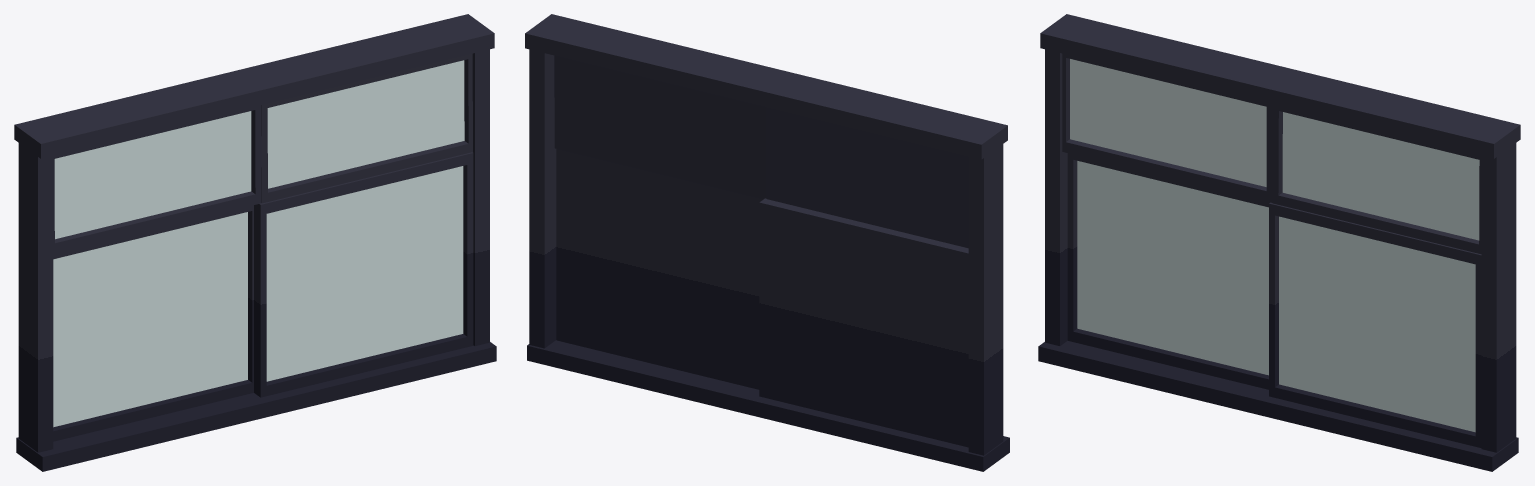
The model's file is ventana_iterac.fbx.
3 renders of one model, left to right at view 1: azimuth 30°, elevation 25°; view 2: azimuth 150°, elevation 25°; view 3: azimuth 330°, elevation 25°, orthographic.
Visible parts, largest first — view 1: ventana_iterac, ventana_inf02, ventana_inf01, ventana_sup02, ventana_sup01; view 2: ventana_iterac, ventana_inf01, ventana_inf02, ventana_sup02, ventana_sup01; view 3: ventana_iterac, ventana_inf02, ventana_inf01, ventana_sup01, ventana_sup02.
Part boxes in pixels (x1,y1,x2,y2): ventana_iterac: (14, 14, 496, 471); ventana_inf02: (254, 152, 473, 397); ventana_inf01: (53, 205, 253, 441); ventana_sup02: (261, 53, 472, 203); ventana_sup01: (53, 105, 261, 253); ventana_iterac: (525, 14, 1009, 471); ventana_inf01: (759, 198, 968, 447); ventana_inf02: (556, 149, 763, 389); ventana_sup02: (554, 55, 766, 199); ventana_sup01: (766, 107, 968, 248); ventana_iterac: (1038, 14, 1520, 471); ventana_inf02: (1269, 202, 1481, 448); ventana_inf01: (1067, 153, 1269, 389); ventana_sup01: (1062, 53, 1272, 202); ventana_sup02: (1272, 105, 1481, 254).
Size of the model in its own units: 572 by 393 by 61.54.
